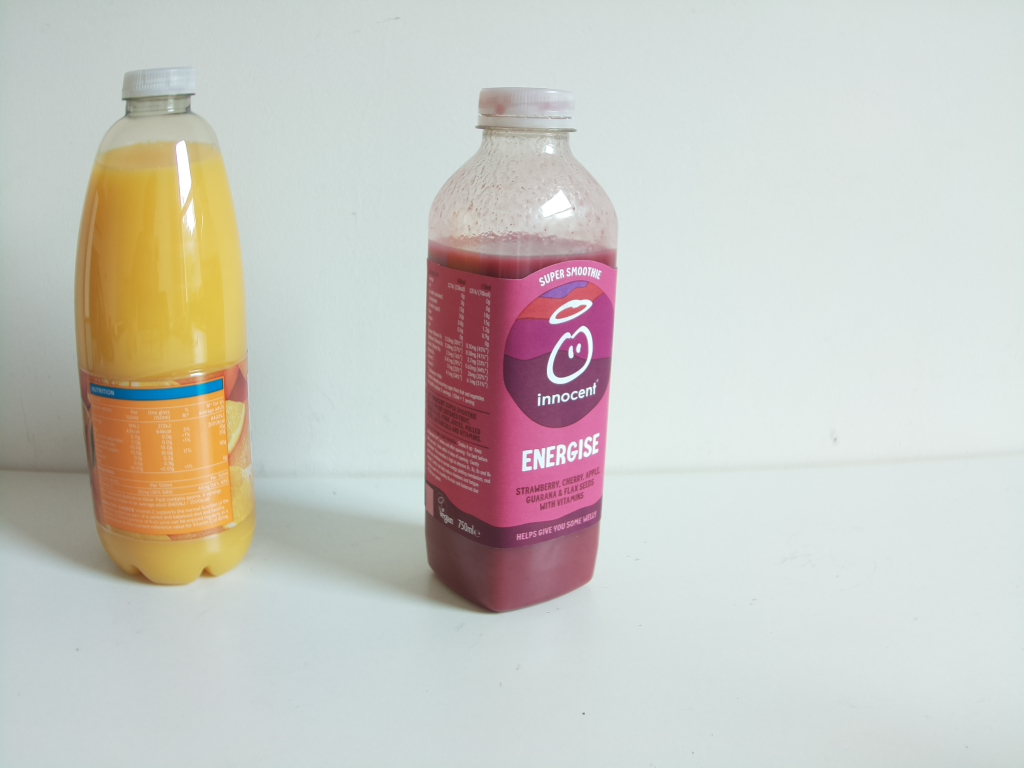juice: (415, 82, 619, 619), (66, 63, 270, 587)
